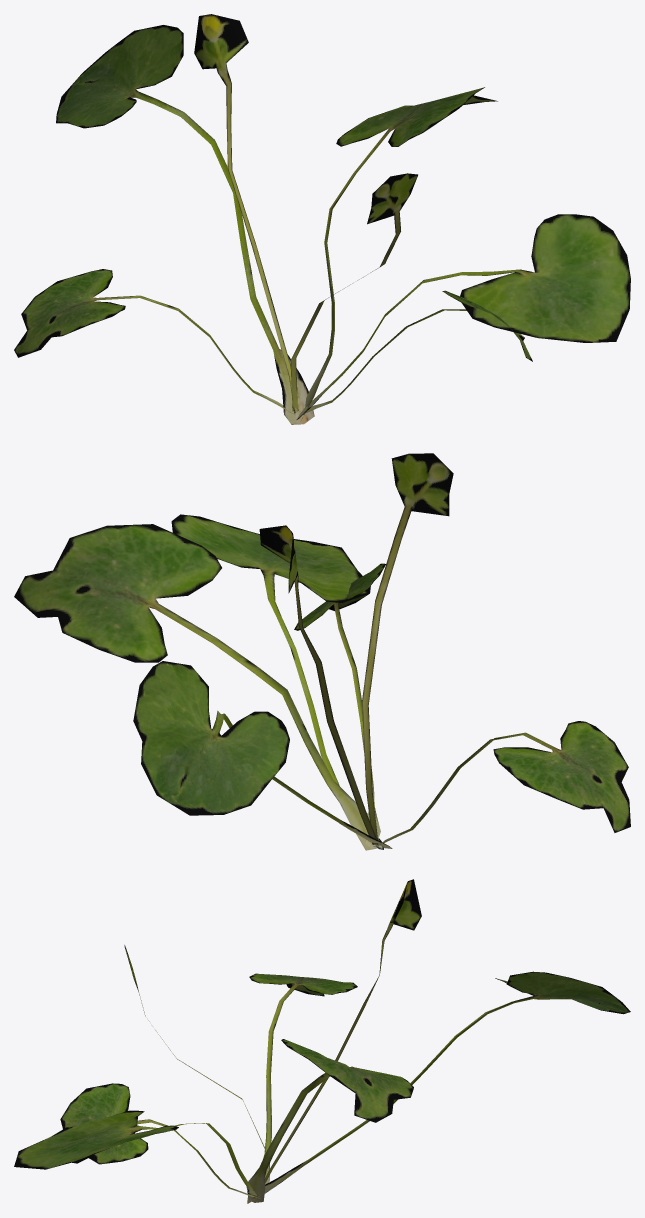
The model's file is celandine_01_e.glb.
3 views of the same model, one above another, from view 1: azimuth 30°, elevation 25°; view 2: azimuth 150°, elevation 25°; view 3: azimuth 270°, elevation 25° (orthographic). The views are drawn at different scales.
Visible parts, largest first — view 1: celandine_01_e_LOD0; view 2: celandine_01_e_LOD0; view 3: celandine_01_e_LOD0.
Boxes of the visible parts, x1,y1,x2,y2 form: celandine_01_e_LOD0: (14, 14, 630, 424); celandine_01_e_LOD0: (14, 453, 630, 850); celandine_01_e_LOD0: (14, 879, 630, 1203).
Size of the model in its own units: 0.1883 by 0.1237 by 0.2163.
Materials: 1 (1 with a texture image).
